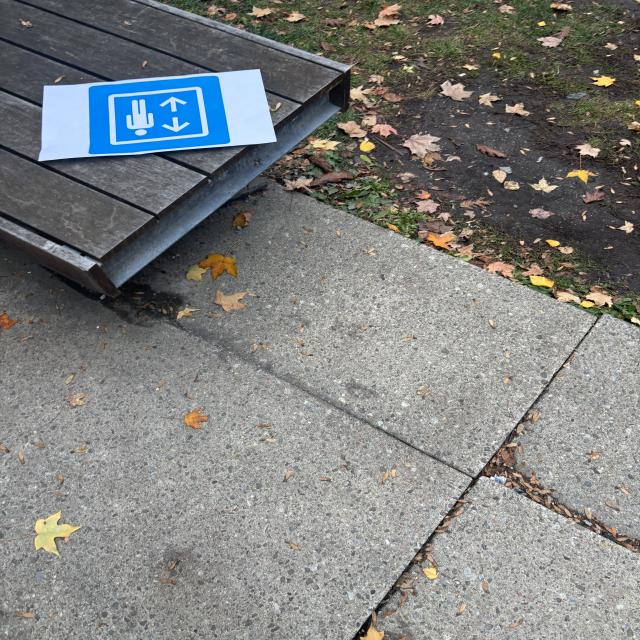elevator: (88, 77, 226, 152)
